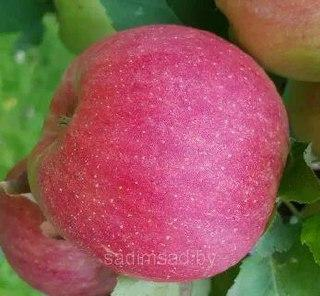Apple: (58, 23, 320, 278), (0, 197, 115, 294)
